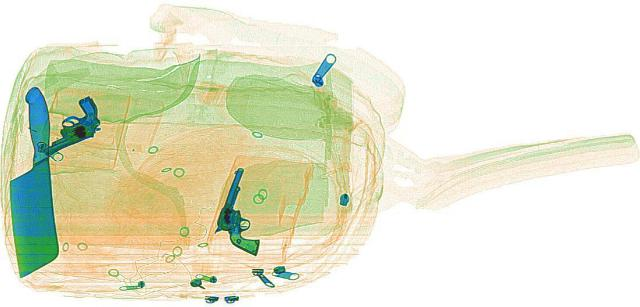Gun: (200, 165, 290, 253), (5, 95, 137, 153)
Knife: (1, 86, 61, 275)
